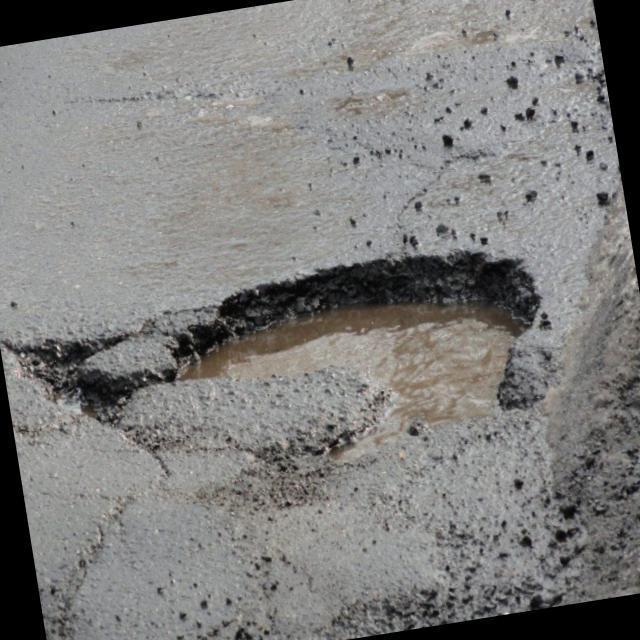Pothole: (29, 224, 574, 512)
